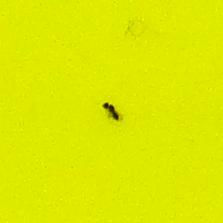Brachycera: (100, 100, 123, 123)
